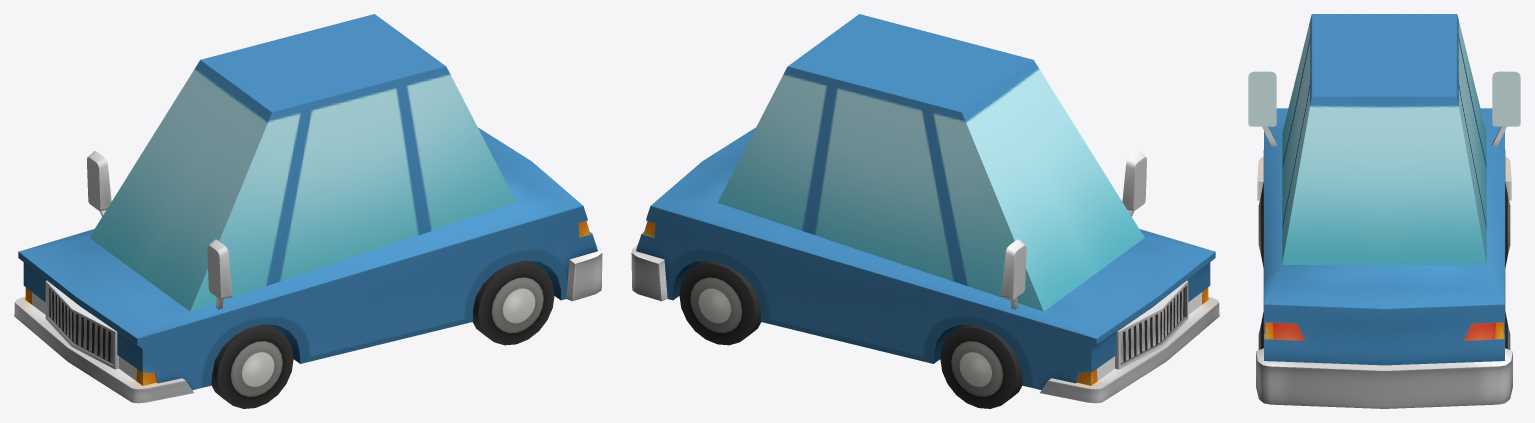
The model's file is car.FBX.
The picture shows the model from 3 angles, left to right: view 1: azimuth 30°, elevation 25°; view 2: azimuth 150°, elevation 25°; view 3: azimuth 270°, elevation 25°; orthographic projection.
Parts seen in each view (by area): view 1: car; view 2: car; view 3: car.
Part boxes in pixels (left/top/right/bottom): car: left=14, top=14, right=602, bottom=408; car: left=631, top=14, right=1219, bottom=408; car: left=1248, top=14, right=1520, bottom=408.
Size of the model in its own units: 54.63 by 29.12 by 26.15.
